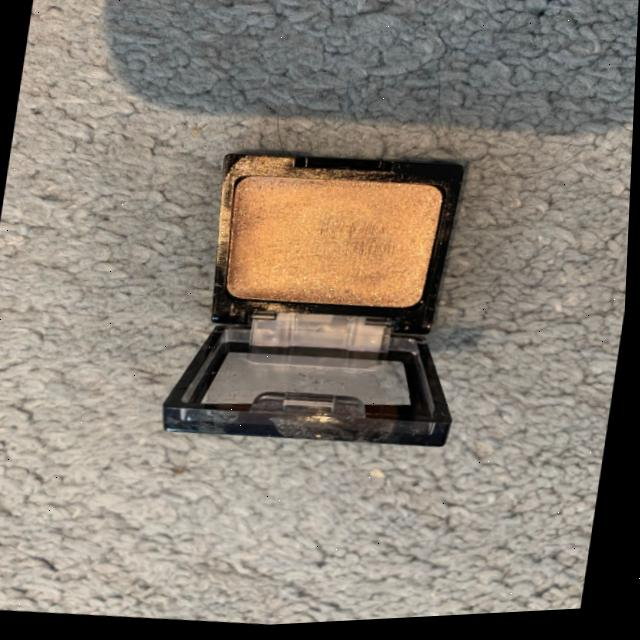highlighter: (193, 133, 484, 344)
